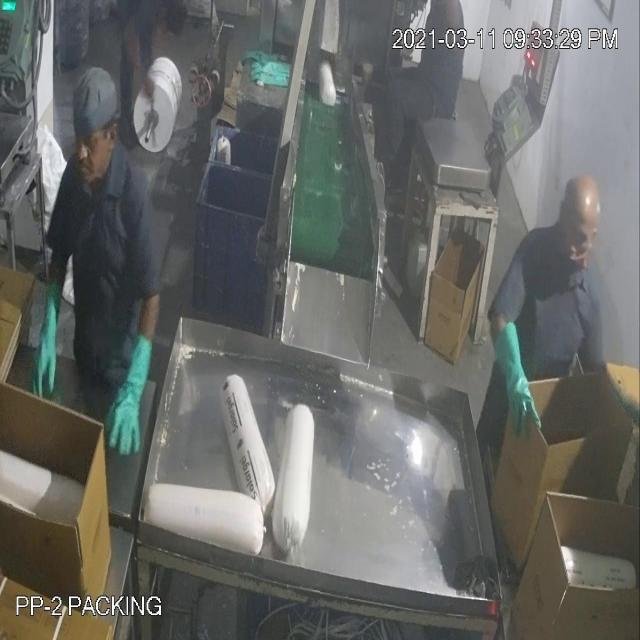Gloves: (53, 127, 516, 395)
